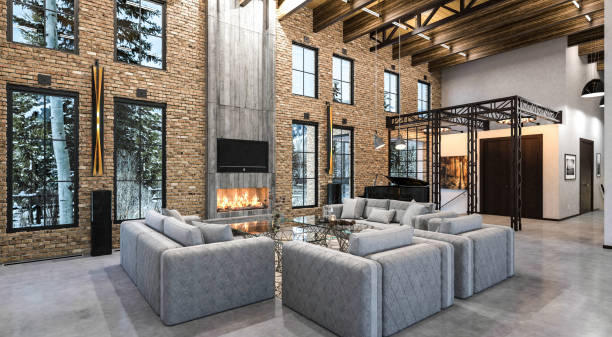TV: (214, 135, 271, 175)
sofa: (279, 191, 515, 337), (118, 204, 277, 327)
table: (234, 210, 367, 244)
wall art: (438, 154, 471, 192), (563, 151, 578, 180), (594, 149, 603, 177)
